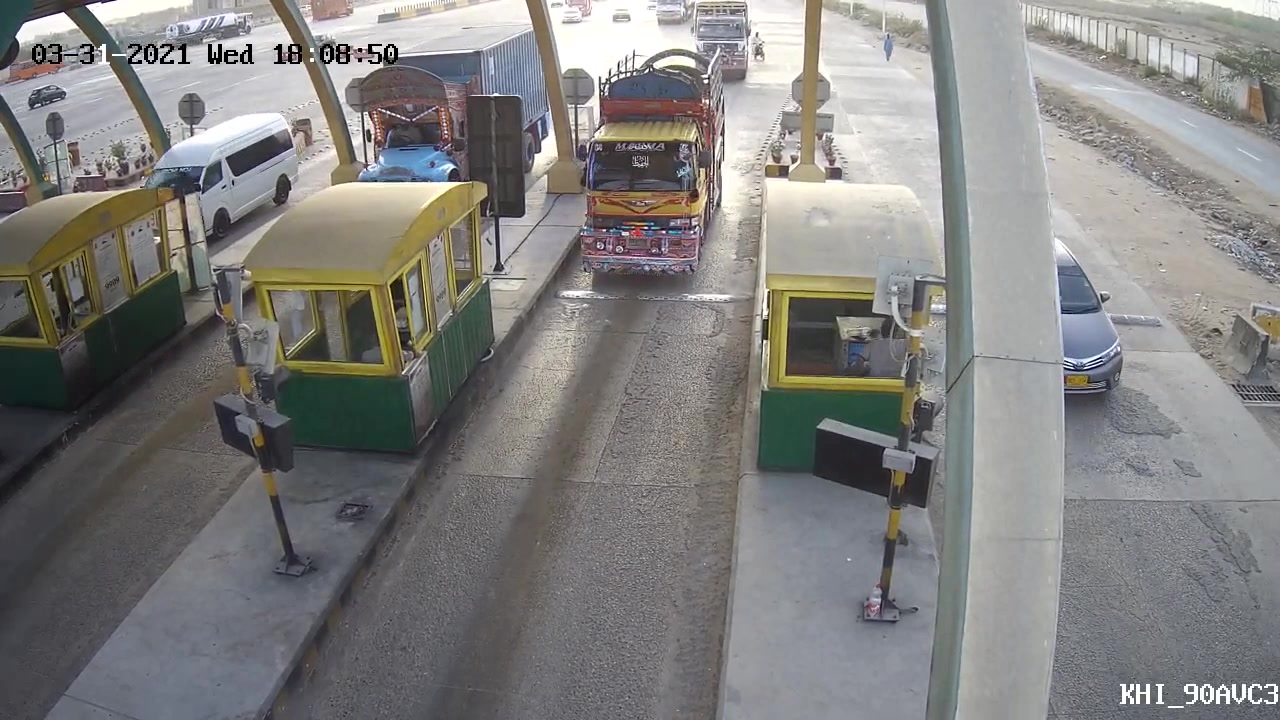F5: (562, 101, 724, 281)
